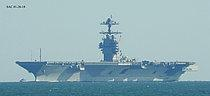MIL_Ship: (15, 14, 197, 83)
